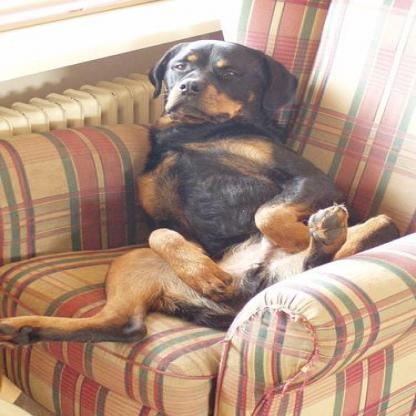Rottweiler: (1, 39, 399, 355)
